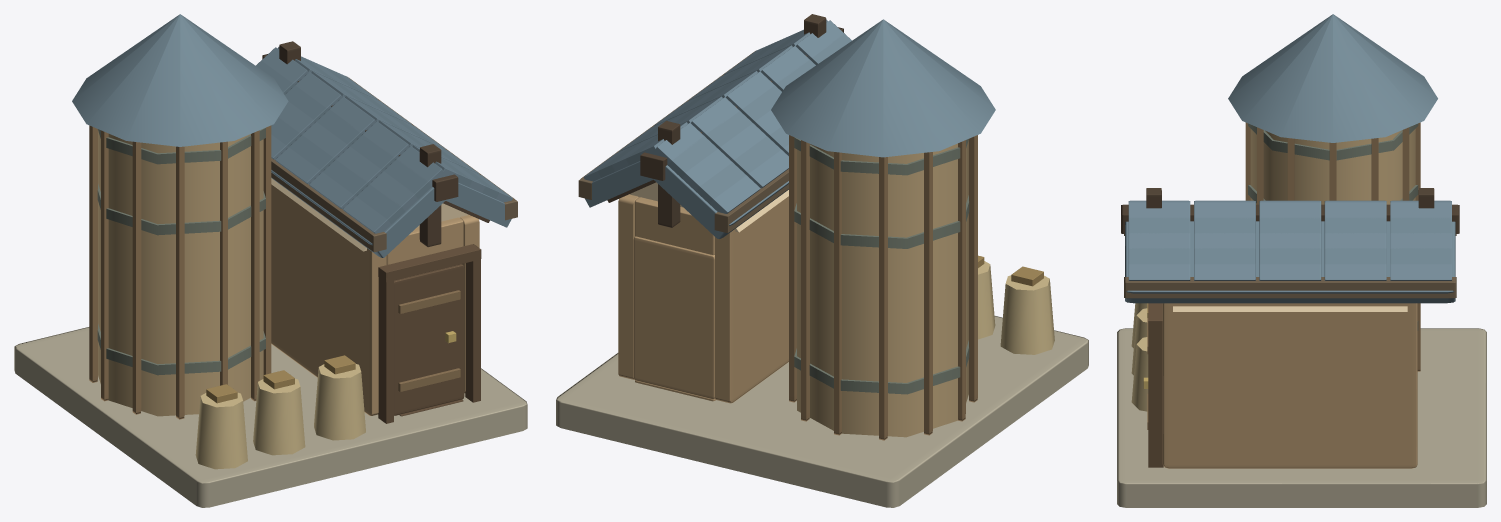
Rendered from granary-2.glb.
3 views of the same model, side by side, from view 1: azimuth 30°, elevation 25°; view 2: azimuth 150°, elevation 25°; view 3: azimuth 270°, elevation 25° (orthographic). The views are drawn at different scales.
Visible parts, largest first — view 1: granary-2-0, door-hinge; view 2: granary-2-0; view 3: granary-2-0.
Part boxes in pixels (x1=…): granary-2-0: x1=14, y1=14, x2=527, y2=507; door-hinge: x1=394, y1=264, x2=464, y2=415; granary-2-0: x1=556, y1=14, x2=1088, y2=507; granary-2-0: x1=1117, y1=14, x2=1486, y2=507.
Size of the model in its own units: 1.92 by 2.16 by 1.9.
